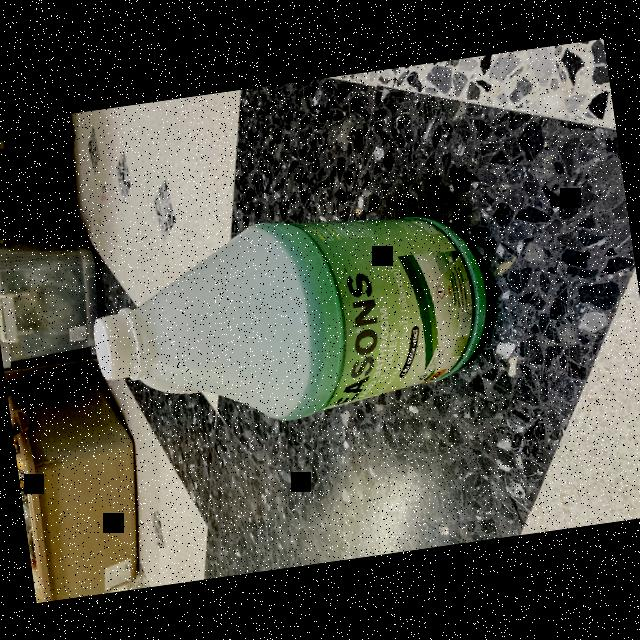chemical_plastic_gallon: (77, 195, 500, 446)
